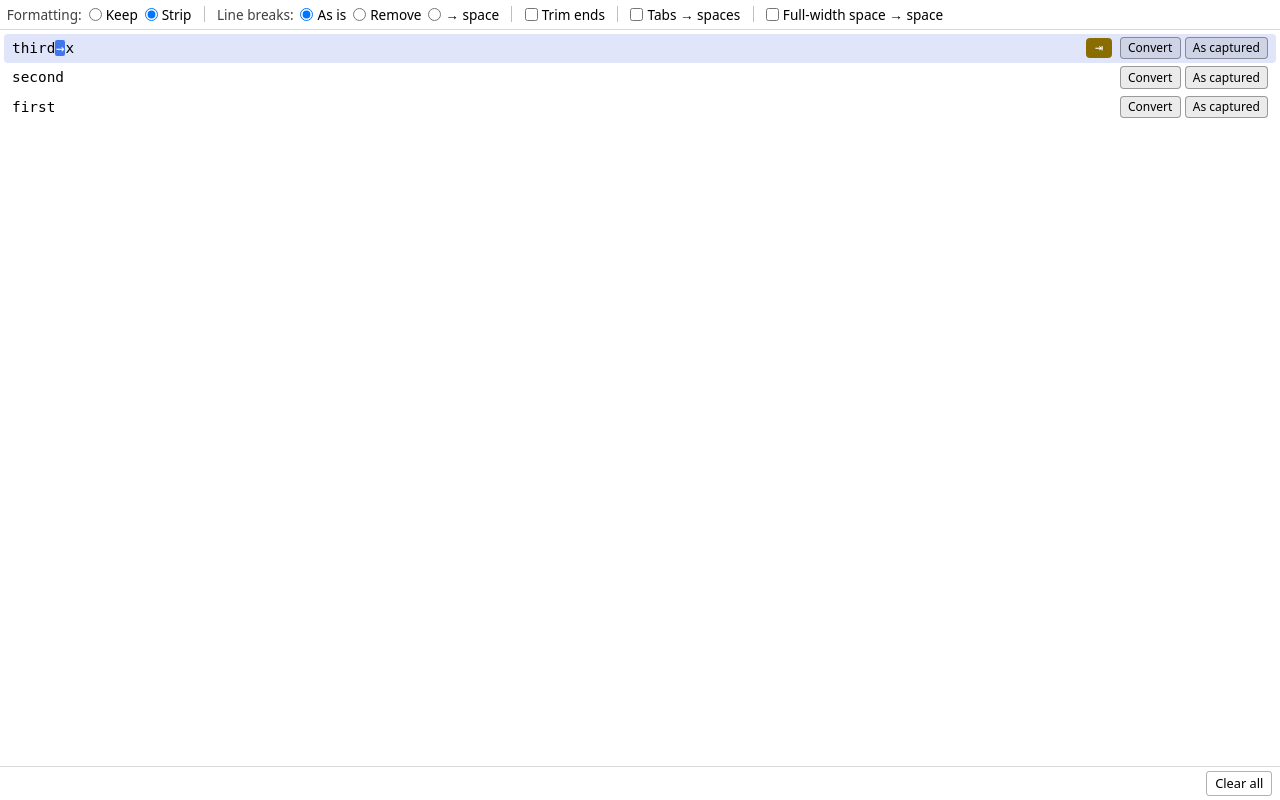
Test case: MainWindow — transfer › reports skipped transforms as an info notice (7.5)
The image size is (1280, 800).
Expected: the number of options is 3, [4,34,1276,63]; [4,63,1276,92]; [4,92,1276,122]
What coordinates should you click on to do the following:
click the button "Convert" in the row of "third"
I would click on:
 (1150, 48)
Its box is [1120,37,1181,59].
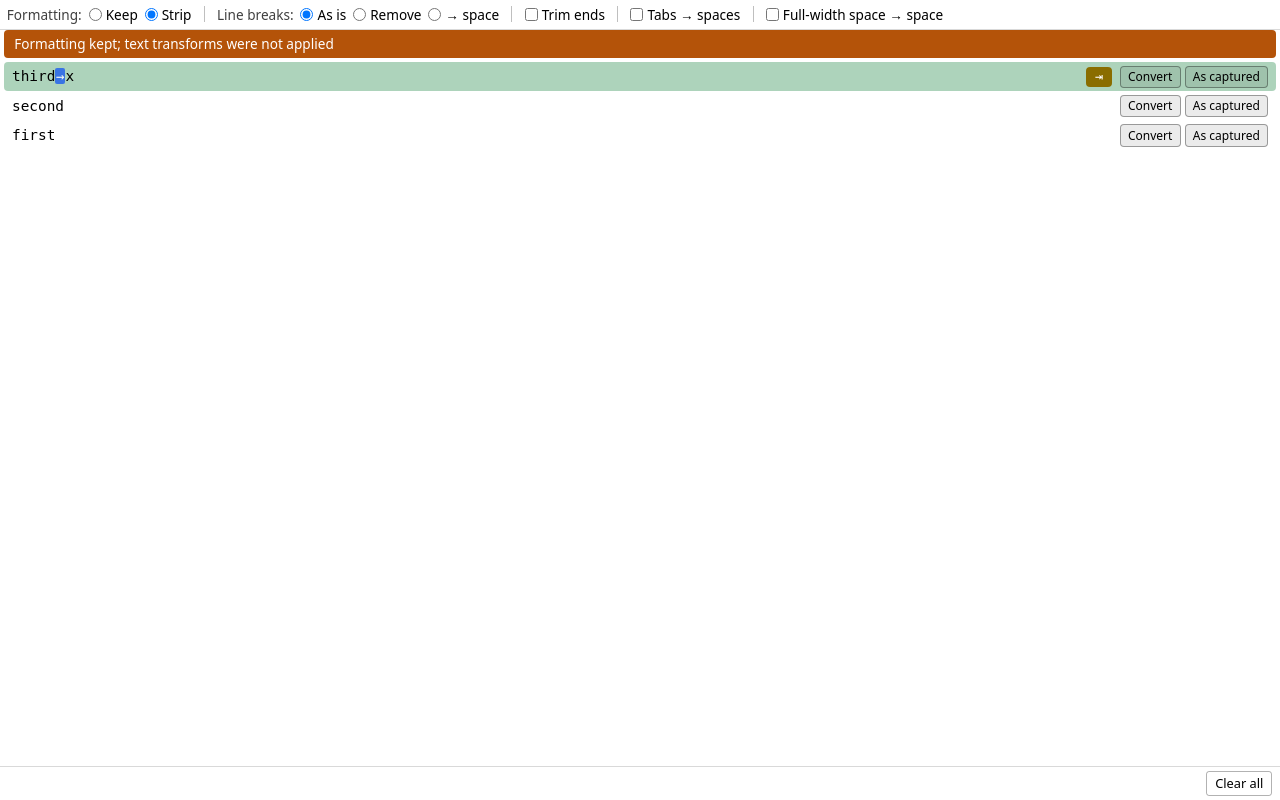
Now the message reads "Formatting kept; text transforms were not applied", box [4,30,1276,58]
